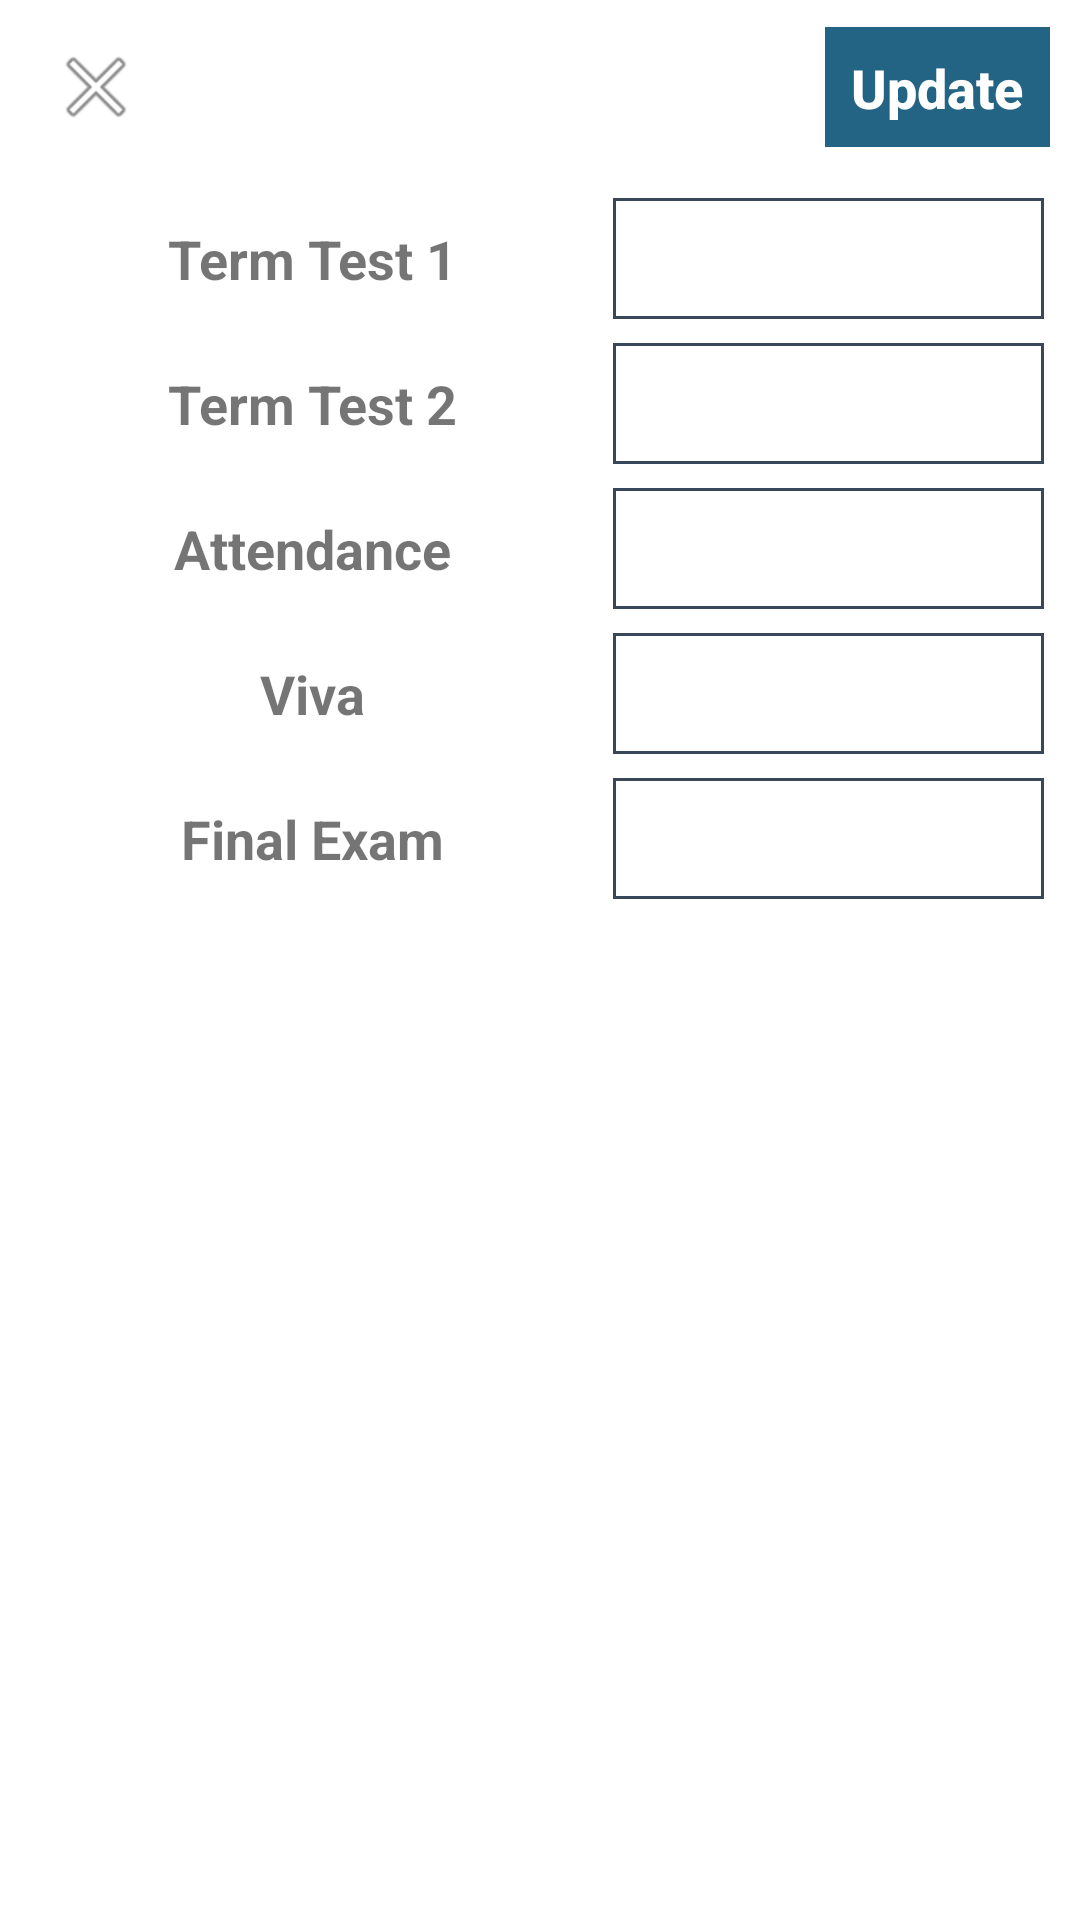

Icon click points for this 1080*1920 phone screenshot, format point (x, y):
close clear cancel: point (96, 87)
